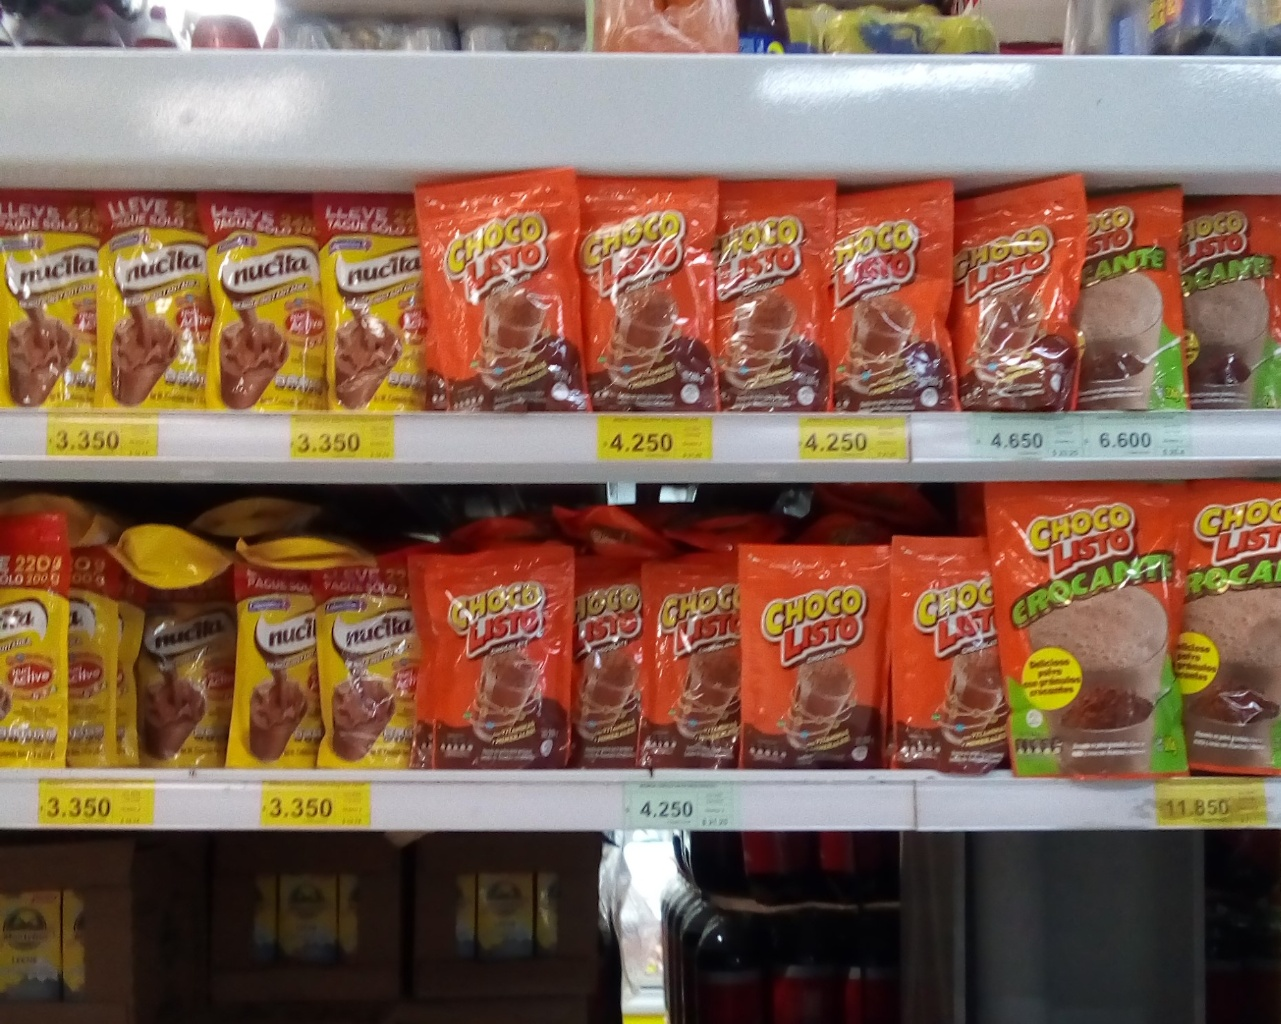COL0170102DYP25000: (1079, 187, 1196, 413)
COL0170102DYP50000: (984, 481, 1196, 783)
